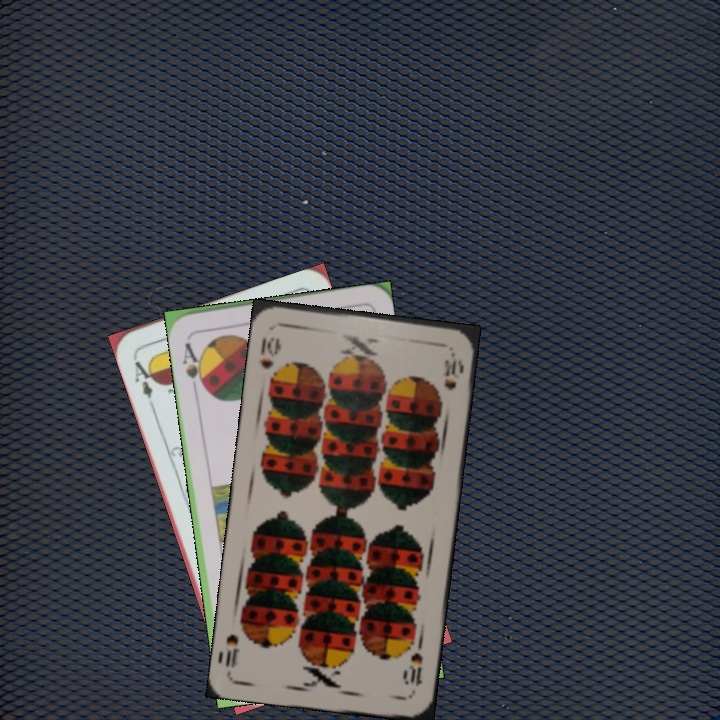EA: (129, 352, 159, 401)
S10: (256, 333, 283, 372), (402, 649, 425, 688)
SA: (178, 338, 208, 392)
